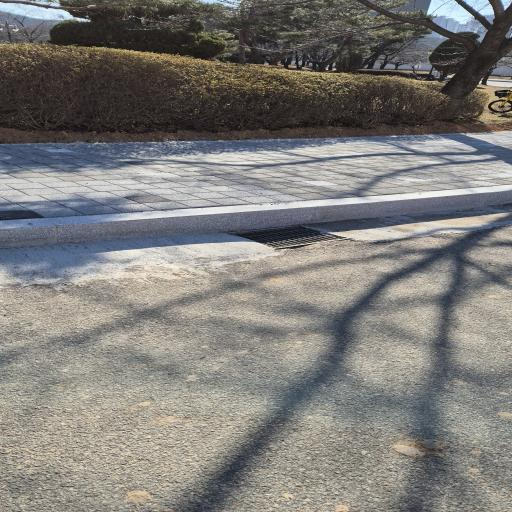drain: (232, 226, 346, 250)
